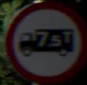Heavy Vehicles: (10, 10, 82, 69)
